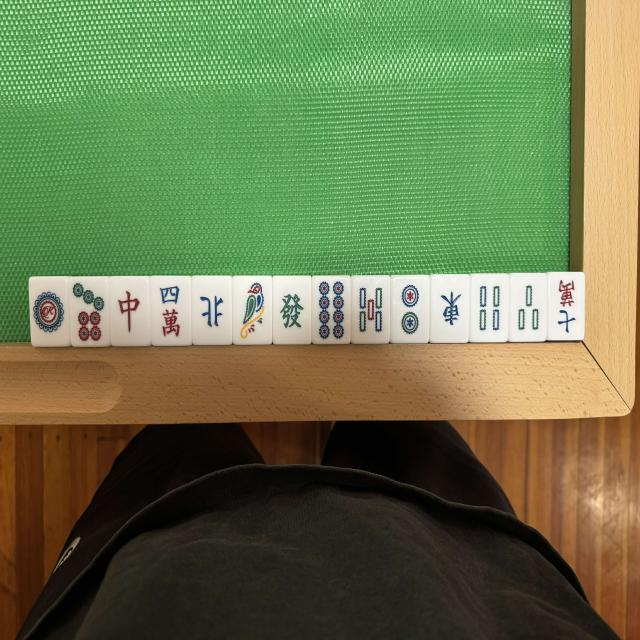east: (432, 274, 469, 342)
fa: (274, 278, 311, 345)
m4: (152, 276, 192, 345)
m7: (548, 272, 584, 340)
north: (193, 276, 232, 344)
s1: (234, 279, 272, 345)
s3: (510, 274, 547, 342)
s4: (472, 273, 508, 341)
s5: (351, 278, 388, 344)
t1: (29, 278, 69, 346)
t2: (394, 277, 429, 342)
t7: (72, 279, 110, 347)
t8: (314, 277, 348, 344)
zhong: (112, 278, 151, 346)
